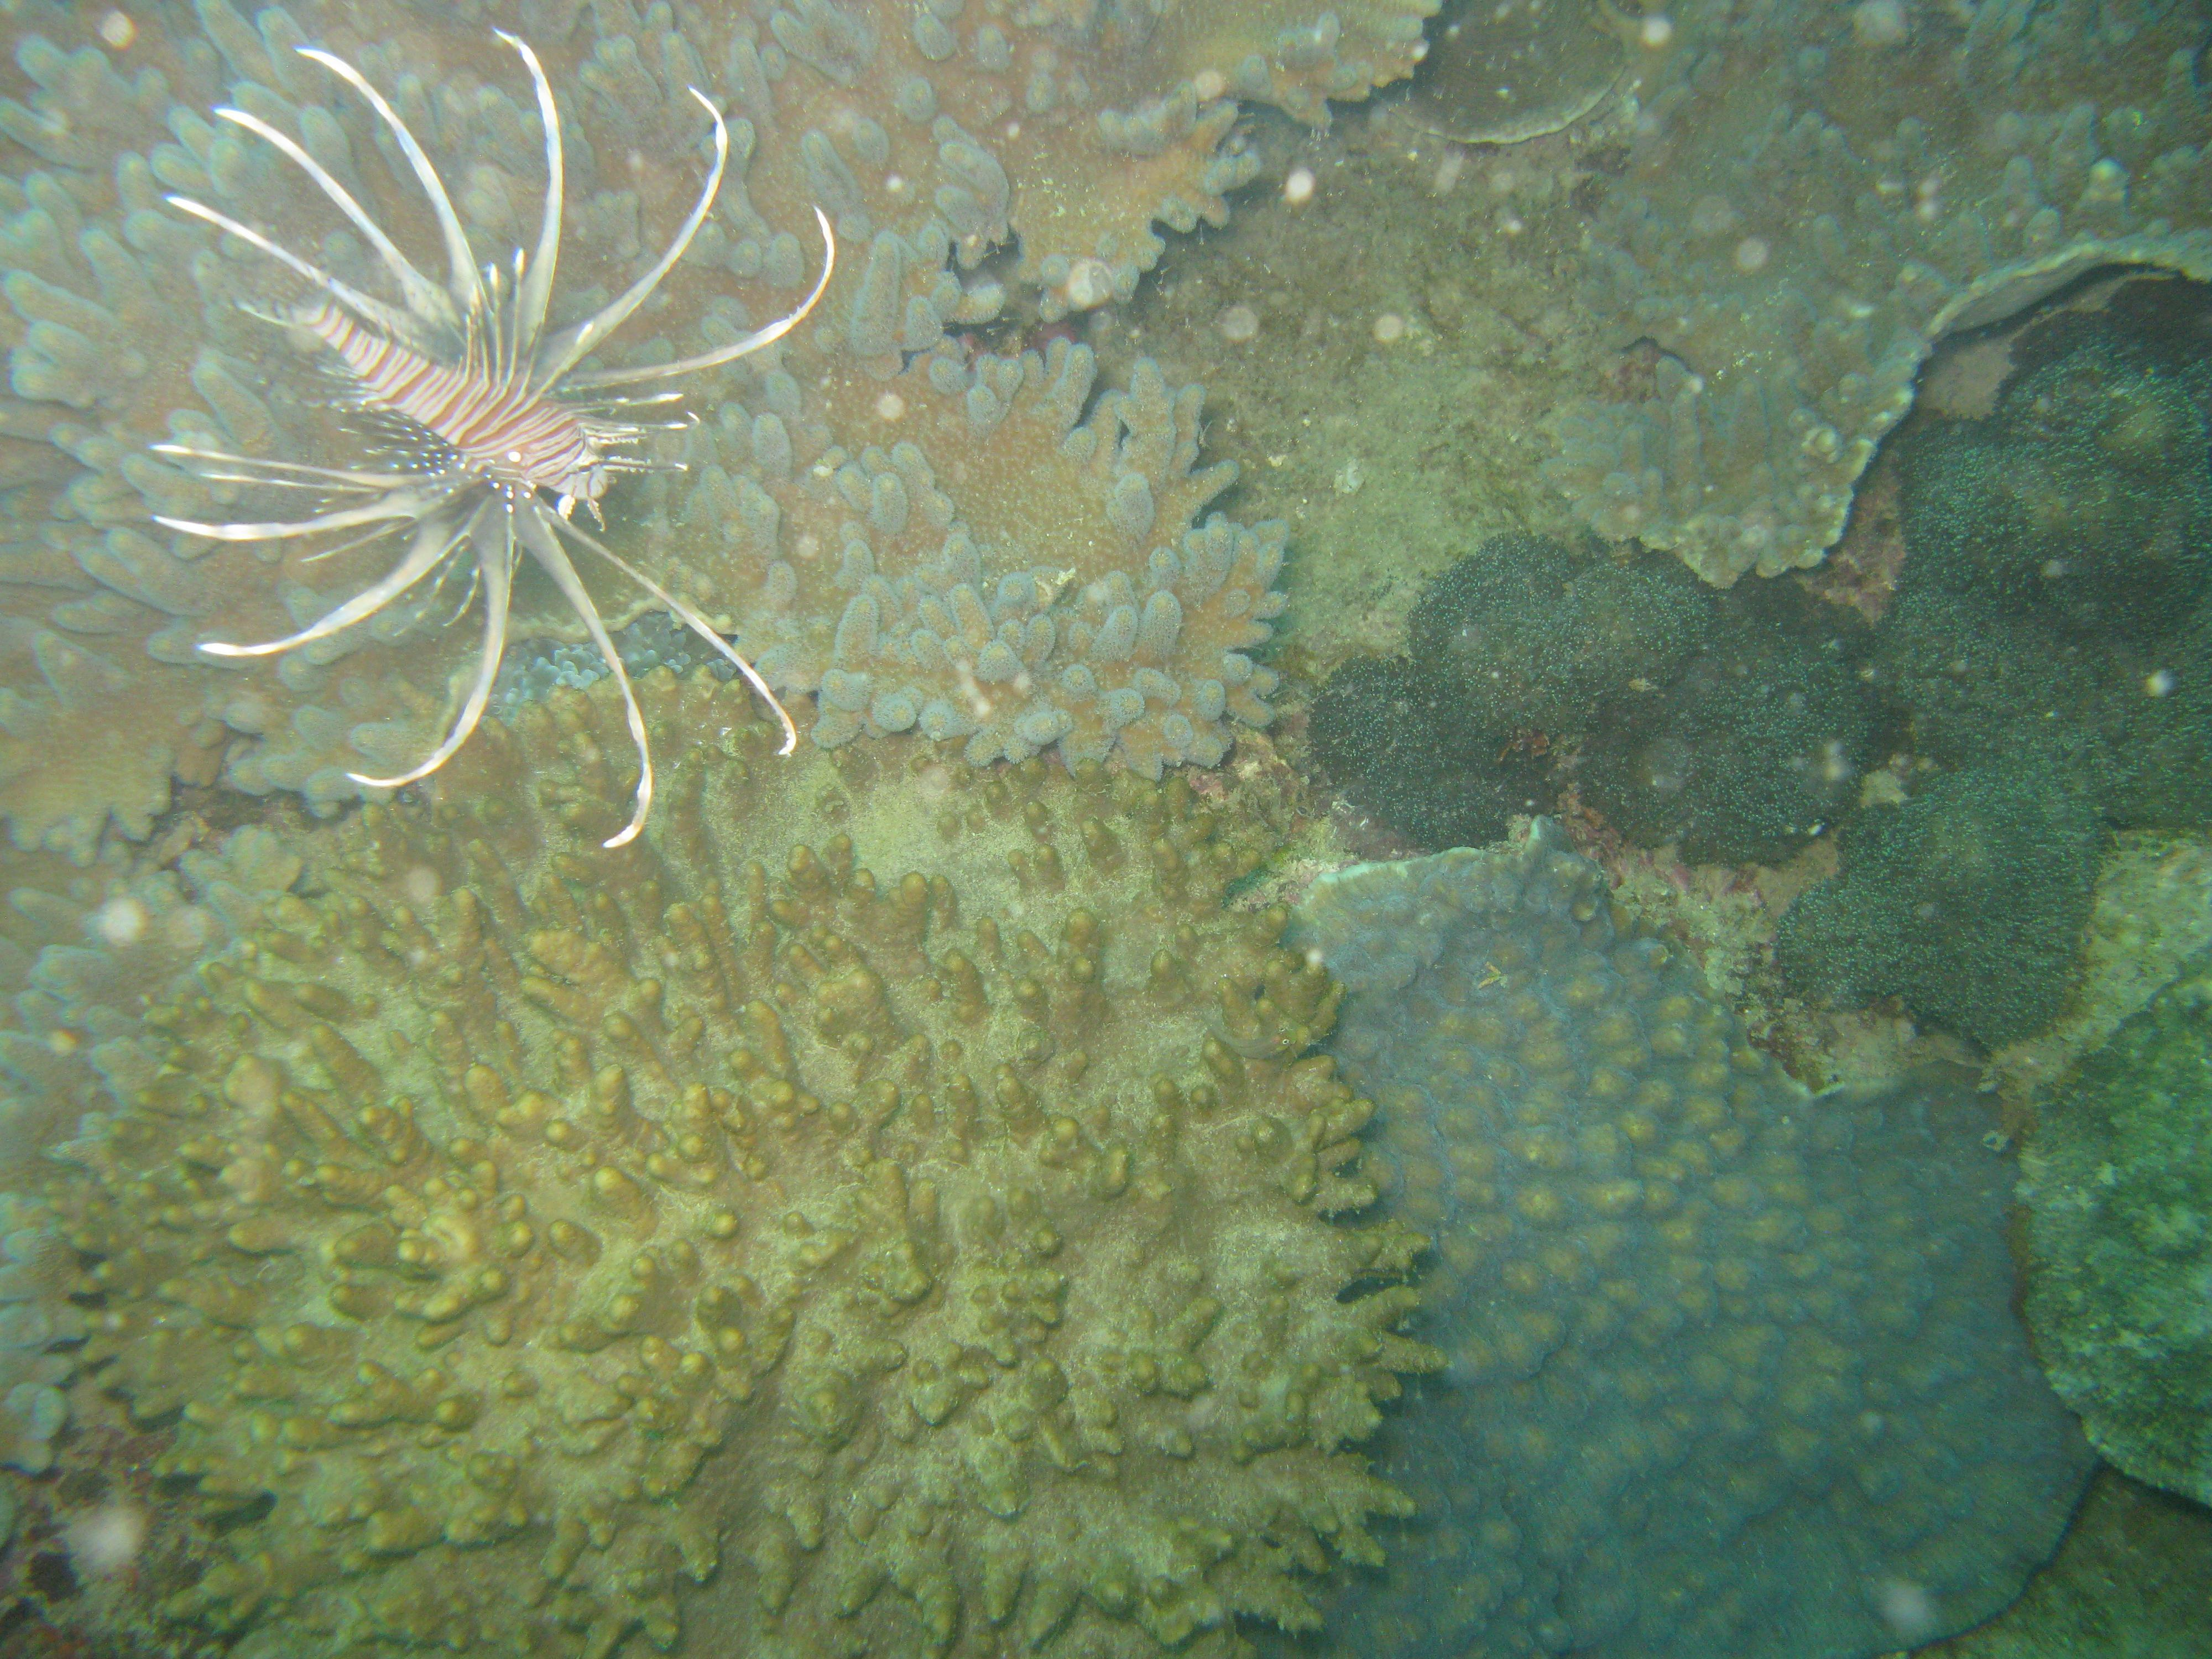Fish: (0, 997, 1204, 1584)
